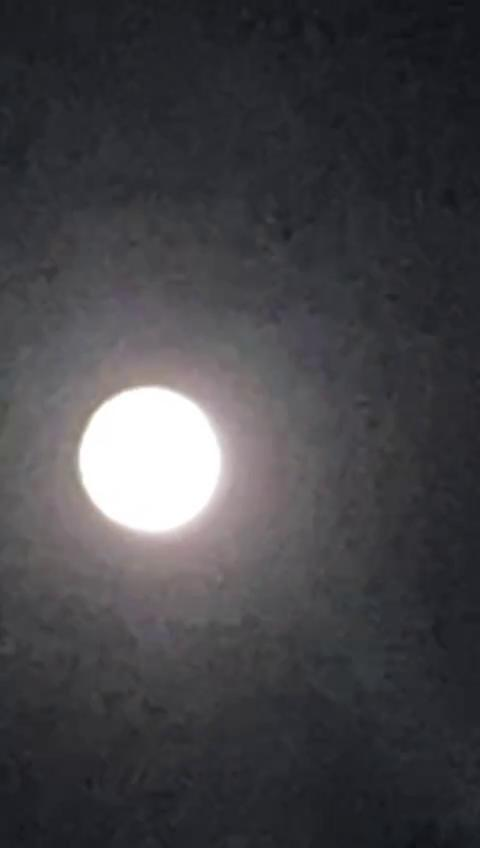moon: (82, 413, 248, 604)
